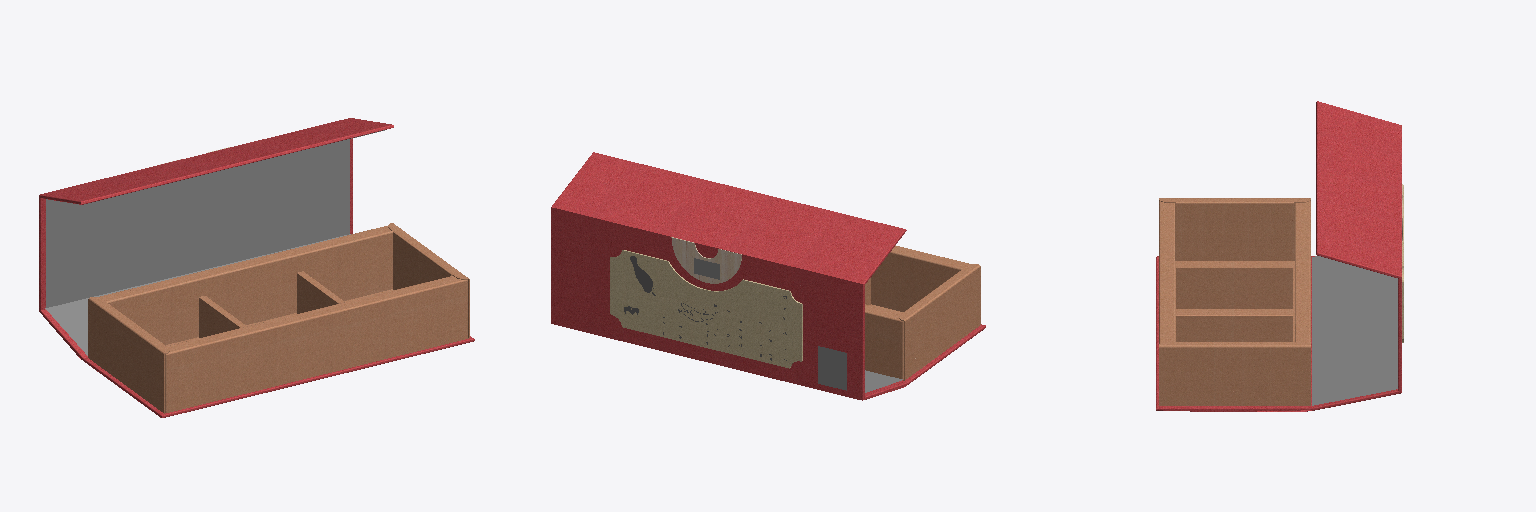
The picture shows the model from 3 angles: view 1: azimuth 30°, elevation 25°; view 2: azimuth 150°, elevation 25°; view 3: azimuth 270°, elevation 25°; orthographic projection.
Visible parts, largest first — view 1: DirectConnectNode_19_DC_Shell, Rectangle006, Rectangle005; view 2: DirectConnectNode_19_DC_Shell, Rectangle001, Plane001; view 3: DirectConnectNode_19_DC_Shell, Rectangle005.
Boxes of the visible parts, <box> form: DirectConnectNode_19_DC_Shell: <box>39,118,474,417</box>; Rectangle006: <box>46,139,349,307</box>; Rectangle005: <box>45,234,350,355</box>; DirectConnectNode_19_DC_Shell: <box>551,152,985,400</box>; Rectangle001: <box>818,346,846,390</box>; Plane001: <box>624,256,786,360</box>; DirectConnectNode_19_DC_Shell: <box>1156,101,1403,411</box>; Rectangle005: <box>1312,256,1397,405</box>.
Size of the model in its own units: 422 by 205 by 289.
7 materials, 5 textured.